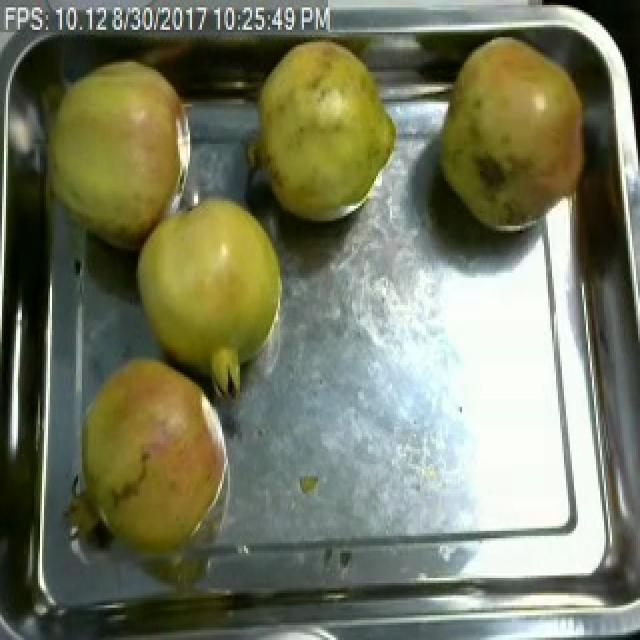fruit: (418, 24, 600, 246), (126, 181, 296, 407), (74, 342, 236, 566), (242, 27, 408, 236), (40, 52, 200, 256)
